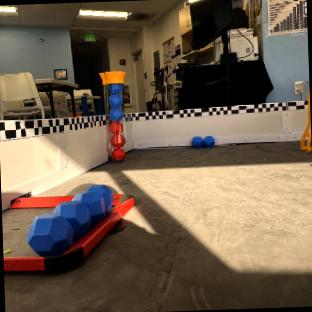Goal: (302, 112, 311, 152), (307, 93, 310, 112)
Parking-R: (3, 194, 133, 272)
V5_BLUE: (28, 186, 112, 255), (108, 83, 125, 161), (108, 83, 123, 119), (192, 136, 214, 147)
V5_RED: (110, 120, 125, 159)
